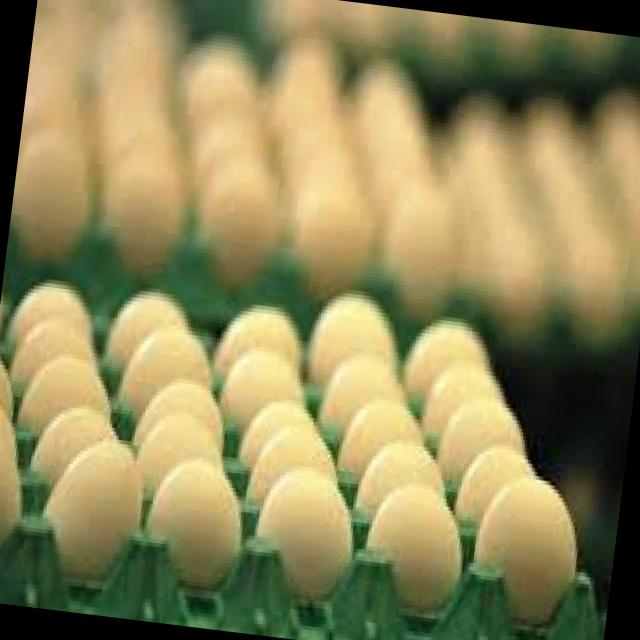Egg: (460, 458, 600, 638), (134, 446, 260, 593), (26, 443, 155, 586), (359, 489, 472, 629), (449, 440, 574, 560), (128, 404, 248, 518), (206, 291, 322, 395), (296, 278, 409, 378), (245, 470, 348, 578), (108, 321, 218, 418), (332, 388, 439, 487), (16, 350, 119, 446), (98, 280, 202, 372), (406, 307, 499, 408), (12, 302, 114, 394), (217, 352, 320, 443), (348, 436, 442, 534), (316, 350, 414, 440), (33, 388, 123, 486), (139, 379, 239, 461), (235, 398, 342, 471), (434, 403, 532, 477), (420, 366, 510, 444), (12, 269, 96, 347), (248, 424, 332, 495)
